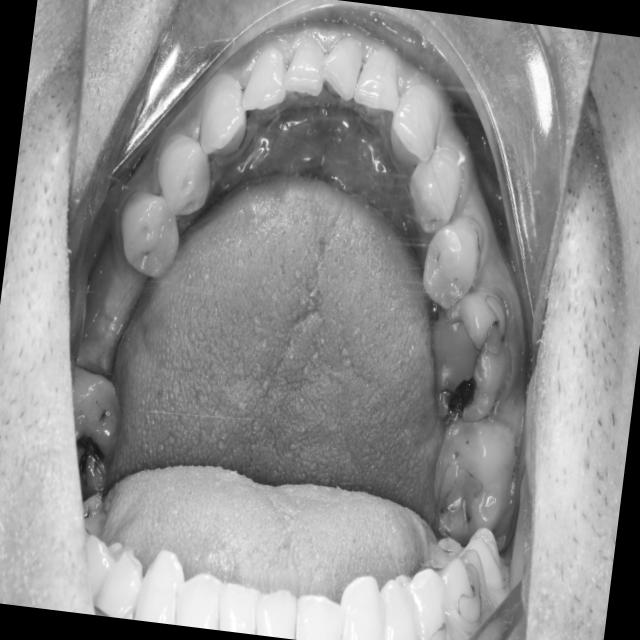tooth: (410, 269, 527, 439), (428, 400, 528, 553), (50, 355, 132, 496), (411, 206, 496, 325), (403, 132, 478, 250), (114, 187, 197, 292), (380, 72, 454, 187), (191, 68, 264, 166), (148, 134, 225, 226), (348, 35, 417, 129), (234, 40, 302, 125), (316, 26, 372, 118), (276, 33, 335, 107)
